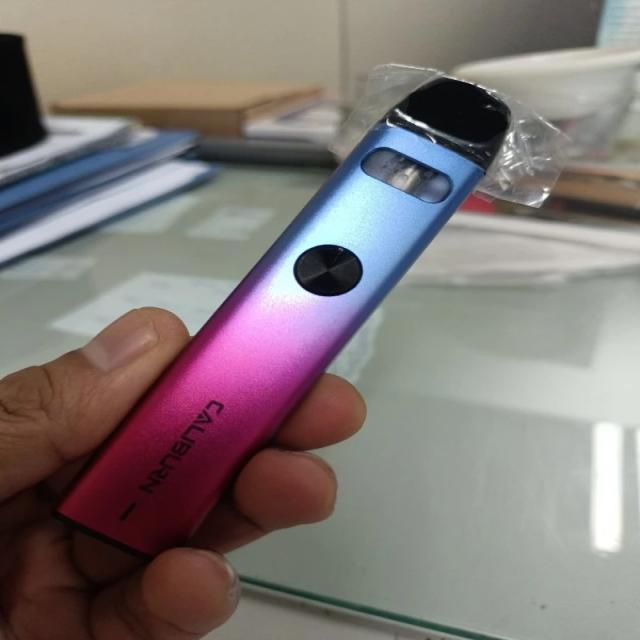Hazard: (54, 75, 516, 570)
